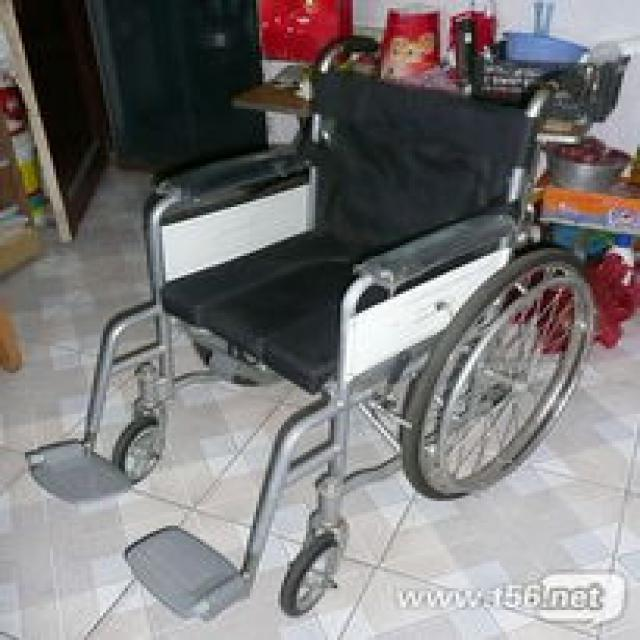wheelchair: (19, 28, 596, 626)
